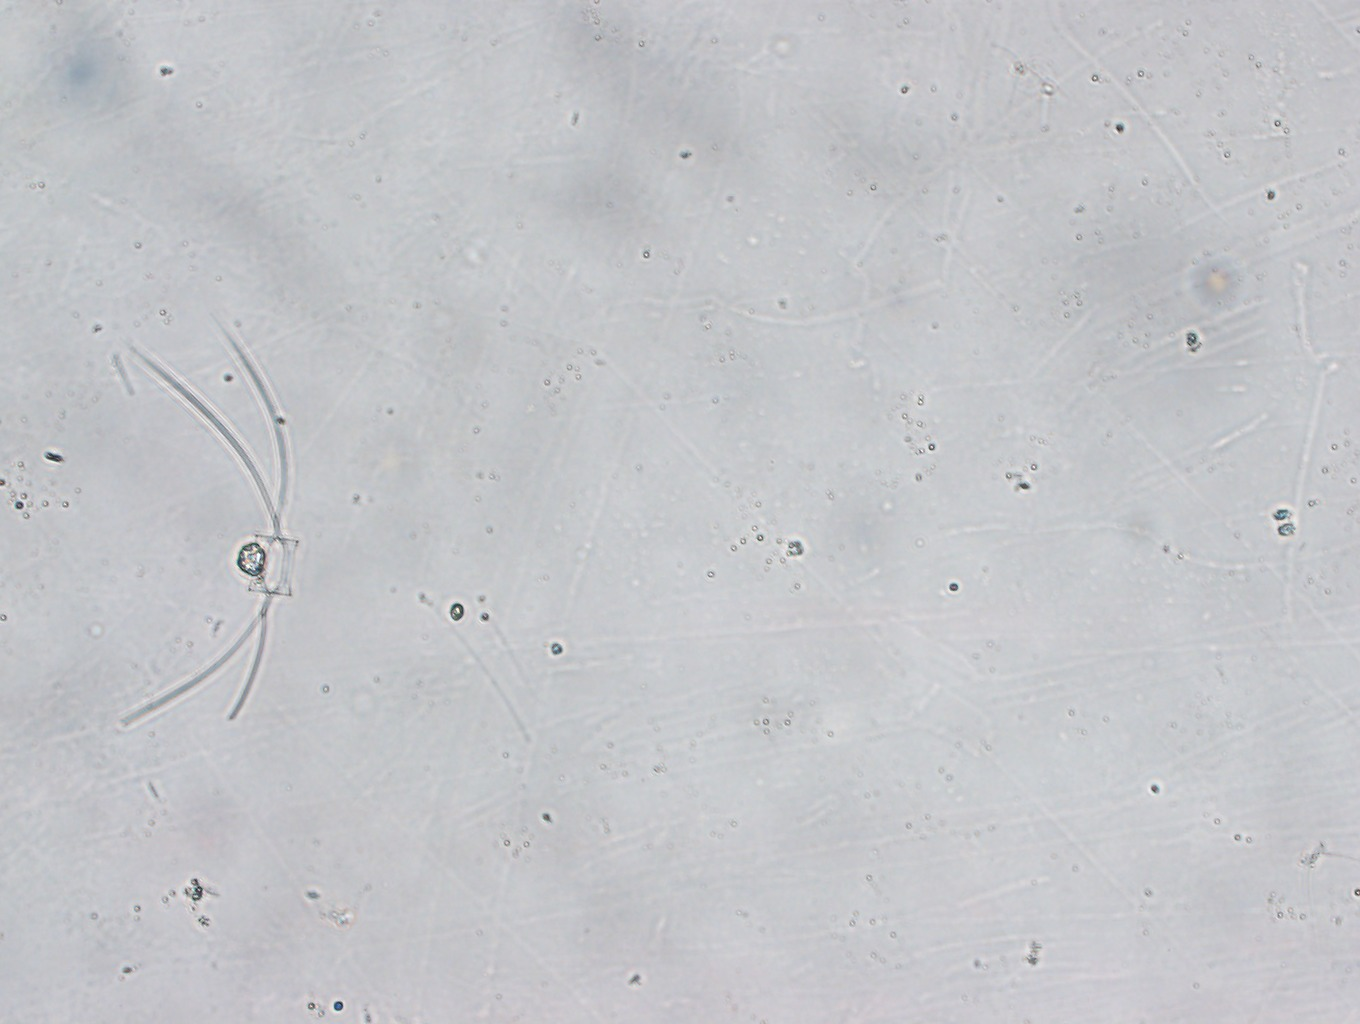chaetoceros: (113, 323, 300, 731)
